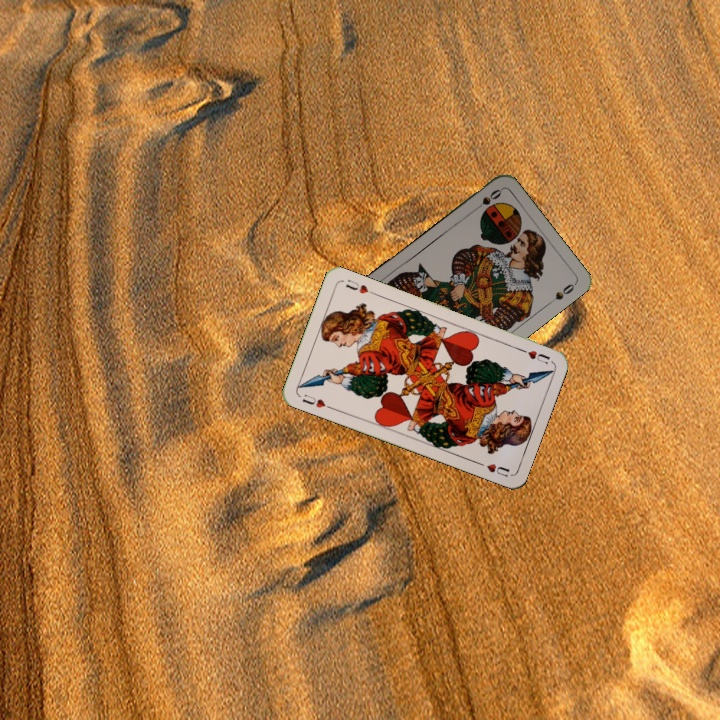HU: (515, 344, 552, 367), (298, 390, 335, 412)
SO: (469, 185, 504, 214)
